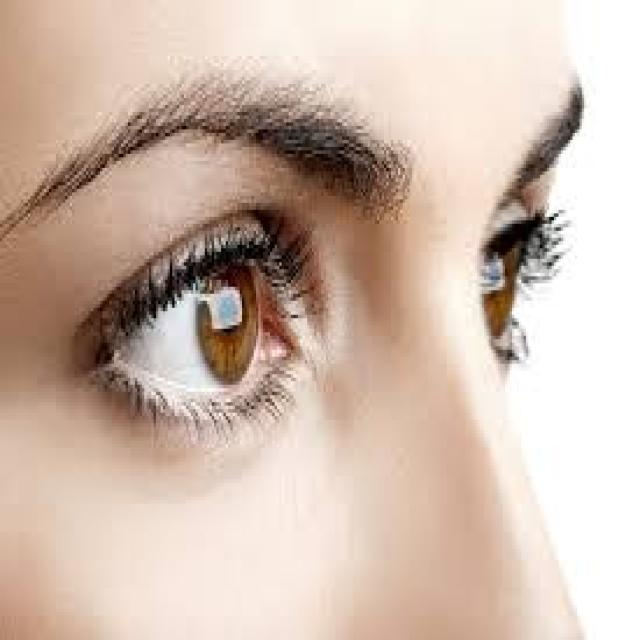Eyes-iris: (191, 252, 267, 394)
